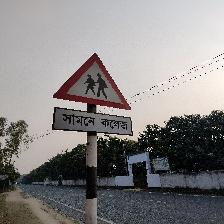College-in-front: (37, 55, 165, 163)
